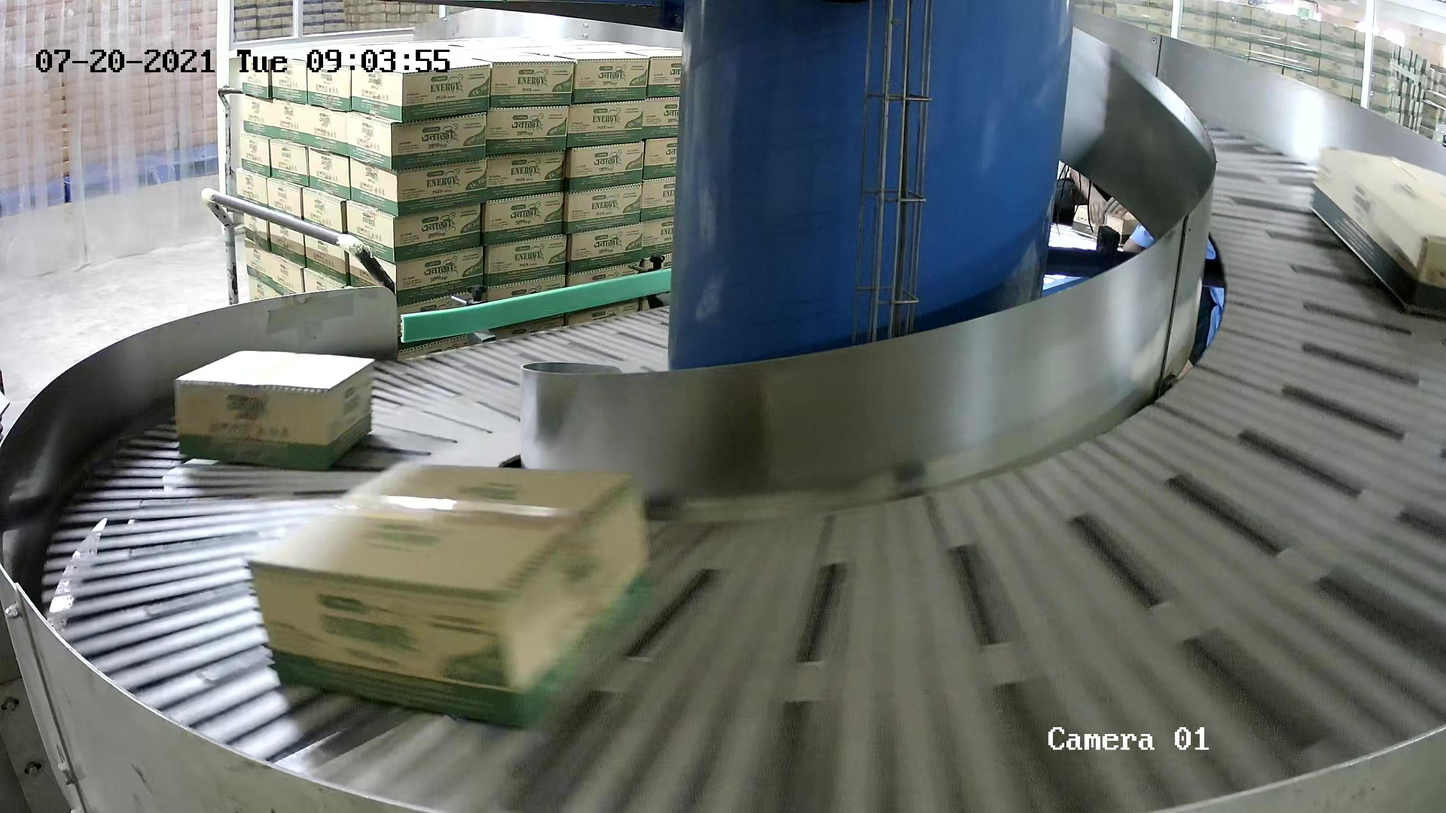Box: (246, 457, 665, 737), (1310, 137, 1446, 331), (172, 346, 374, 474)
